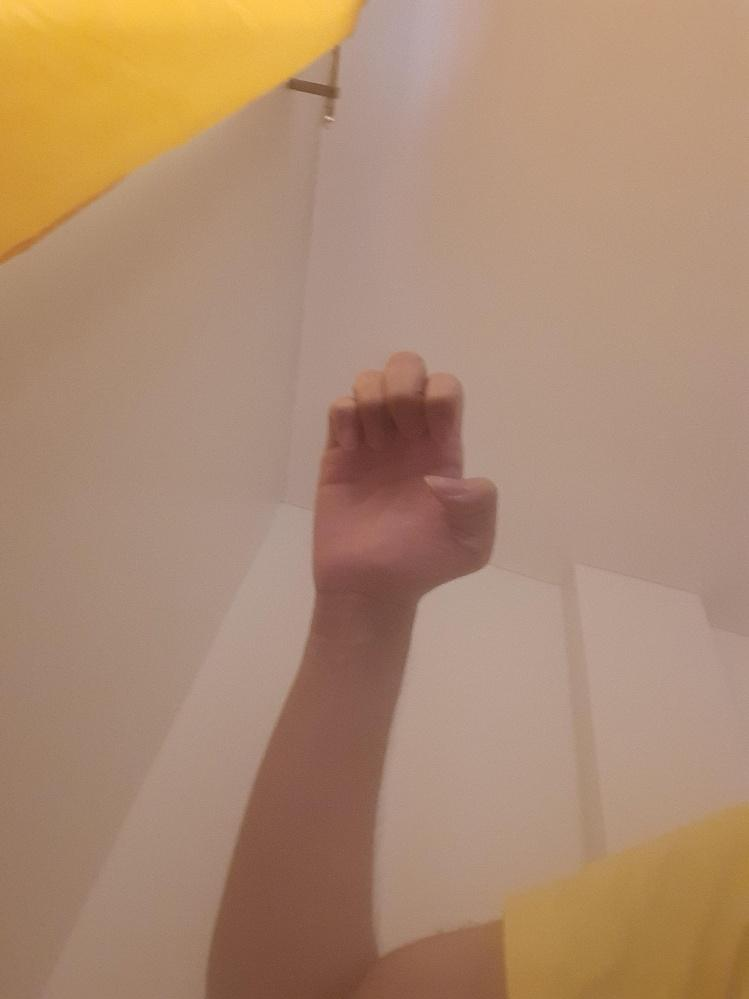e: (311, 350, 498, 591)
